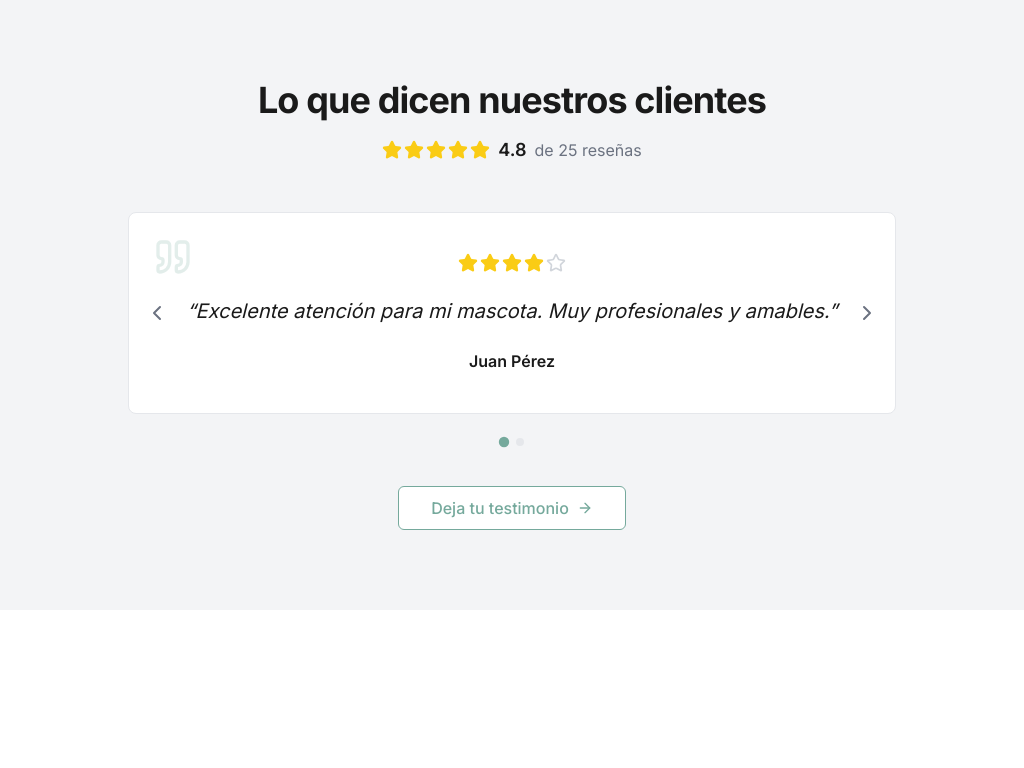
Test case: TestimonialsSection › Navigation Controls › should wrap to first testimonial after last
# Go to second (last)
Click the button named "Siguiente testimonio" at (867, 313), box [847,293,887,333]
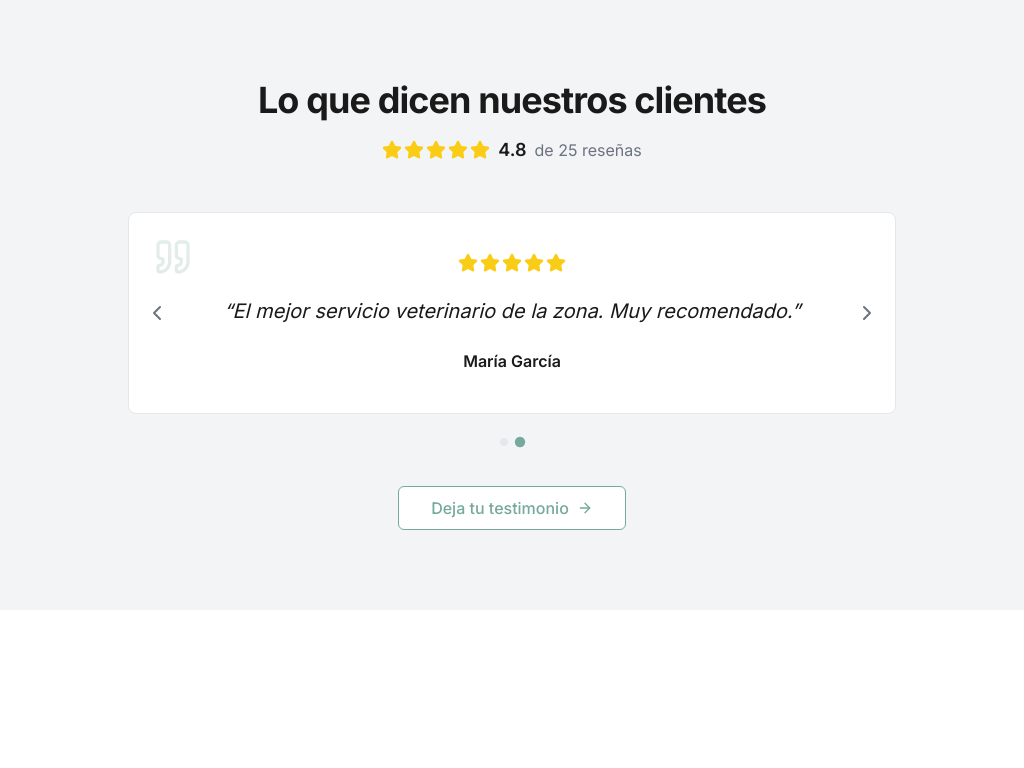
# Go past last, should wrap to first
Click the button named "Siguiente testimonio" at (867, 313), box [847,293,887,333]
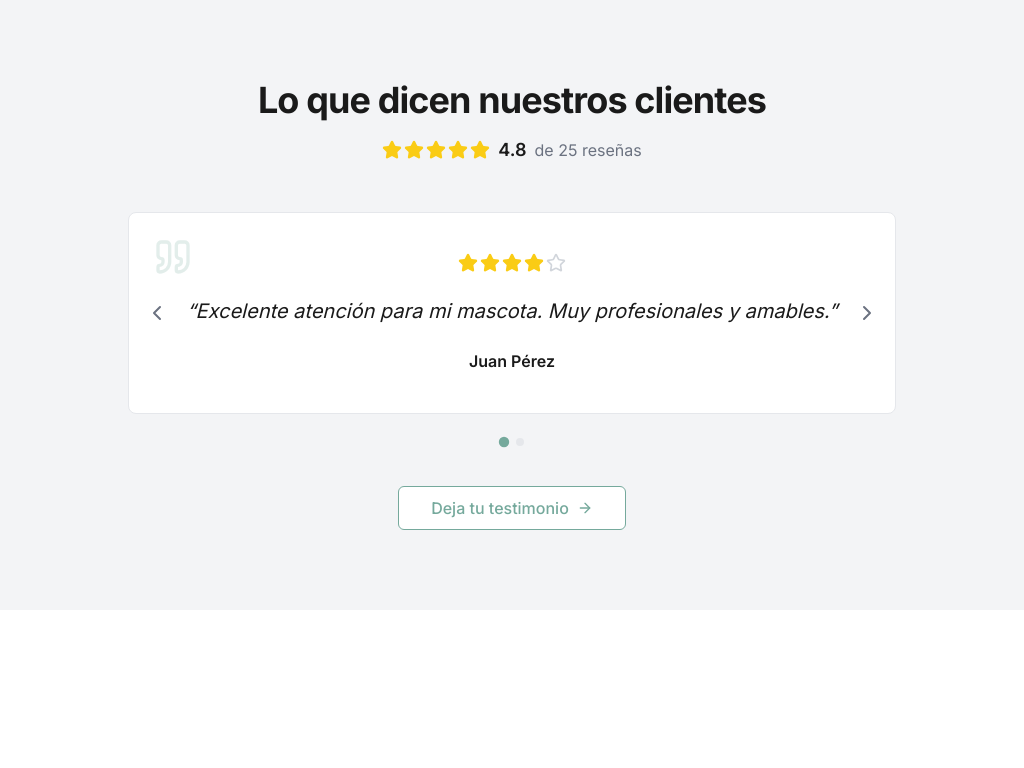
Result: the text "Juan Pérez" is shown at [469,351,555,371]
